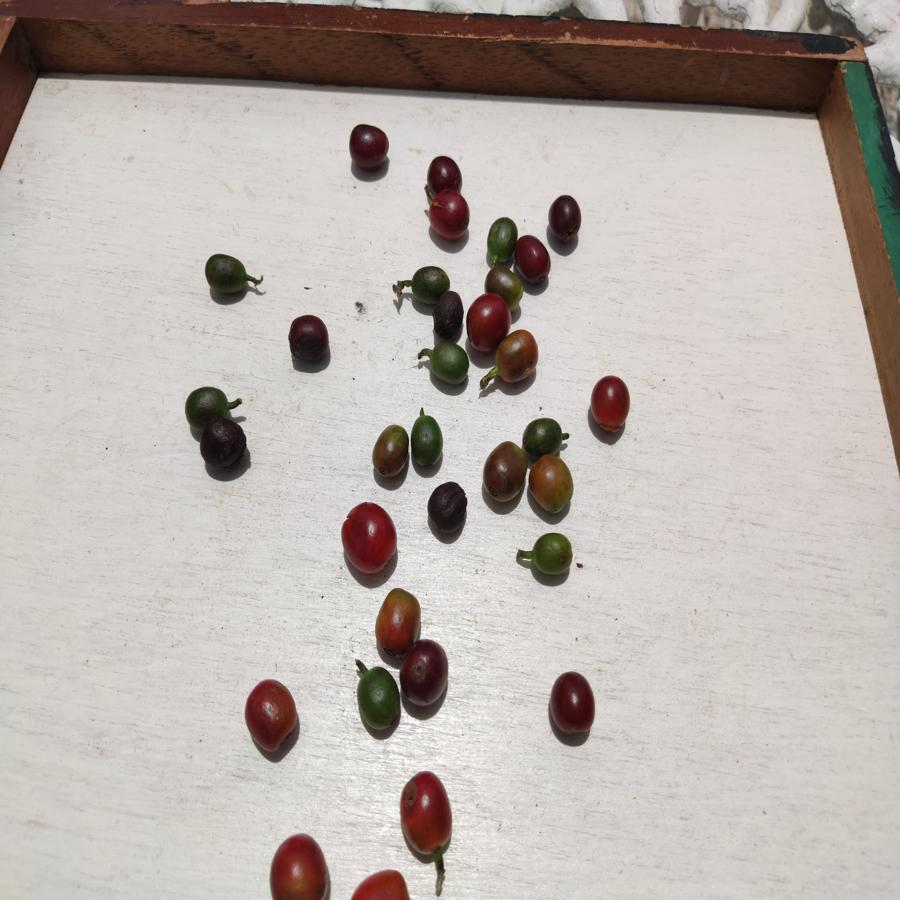Inmaduro: (354, 665, 404, 741), (531, 530, 580, 580), (204, 253, 254, 301), (428, 342, 472, 390), (412, 412, 446, 471), (484, 215, 518, 264), (523, 418, 565, 455), (184, 386, 235, 416), (410, 262, 441, 304)
Maduro: (397, 772, 460, 863), (339, 501, 404, 574), (267, 832, 335, 900), (243, 675, 304, 750), (589, 375, 636, 438), (423, 195, 473, 240), (465, 293, 502, 346)
Pinton: (530, 455, 580, 517), (485, 441, 530, 507), (367, 420, 411, 484), (375, 588, 418, 650), (493, 329, 539, 382), (488, 266, 521, 299)
Sobremaduro: (398, 638, 450, 711), (544, 670, 596, 741), (347, 120, 395, 174), (198, 419, 249, 469), (426, 480, 470, 531), (289, 315, 330, 362), (432, 289, 465, 341), (547, 192, 580, 240), (425, 153, 462, 192)
